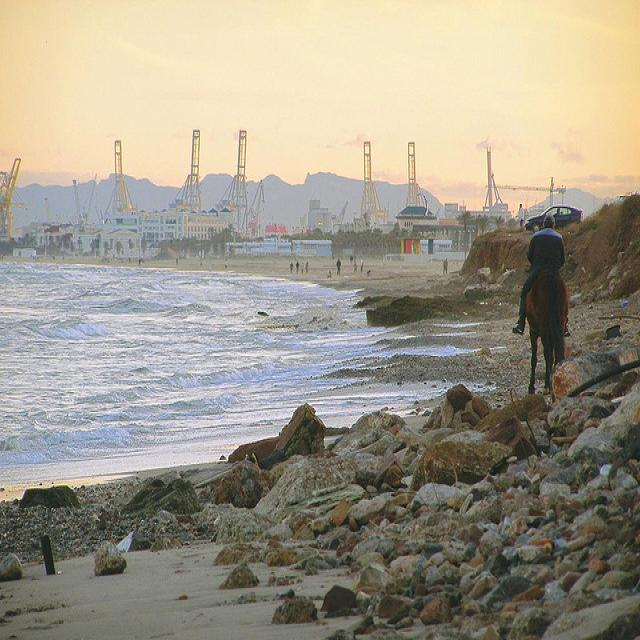Vehicle: (523, 203, 584, 234), (611, 194, 631, 204)
